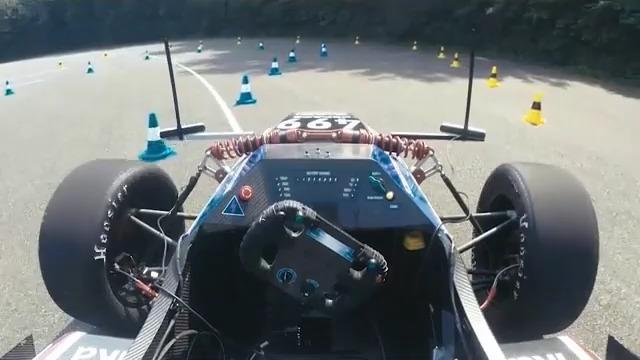blue_cone: (138, 113, 176, 164), (236, 75, 256, 105), (268, 57, 282, 76), (4, 81, 14, 96), (287, 49, 297, 63), (320, 44, 329, 57), (87, 62, 94, 74)
yellow_cone: (522, 93, 545, 126), (484, 66, 501, 88), (450, 53, 461, 67), (438, 46, 446, 59)
